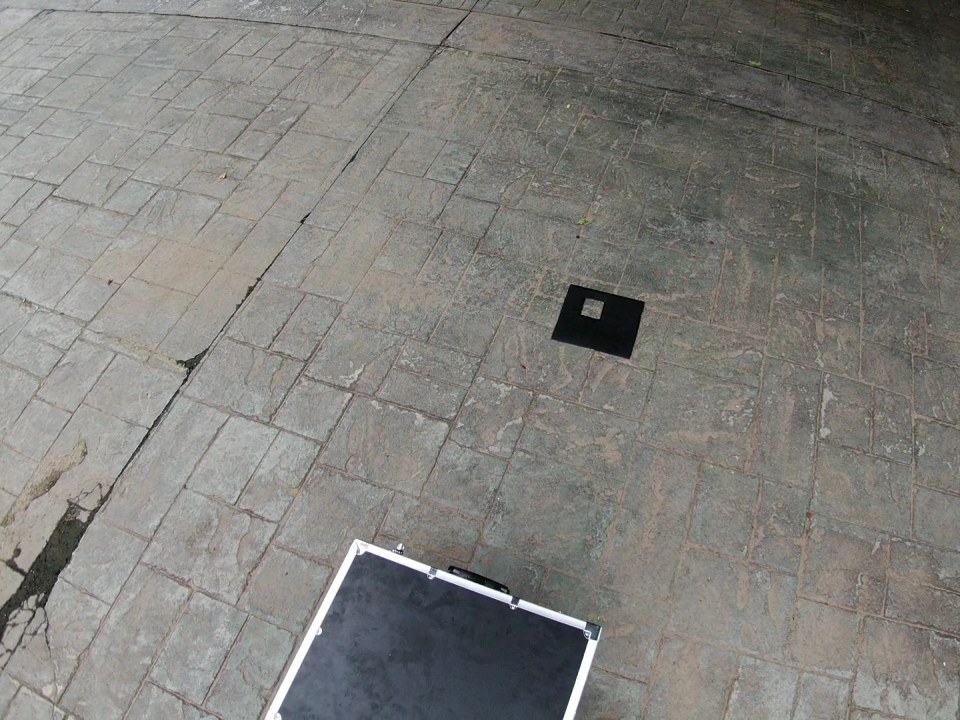box: (264, 539, 600, 720)
qrcode: (550, 284, 644, 360)
